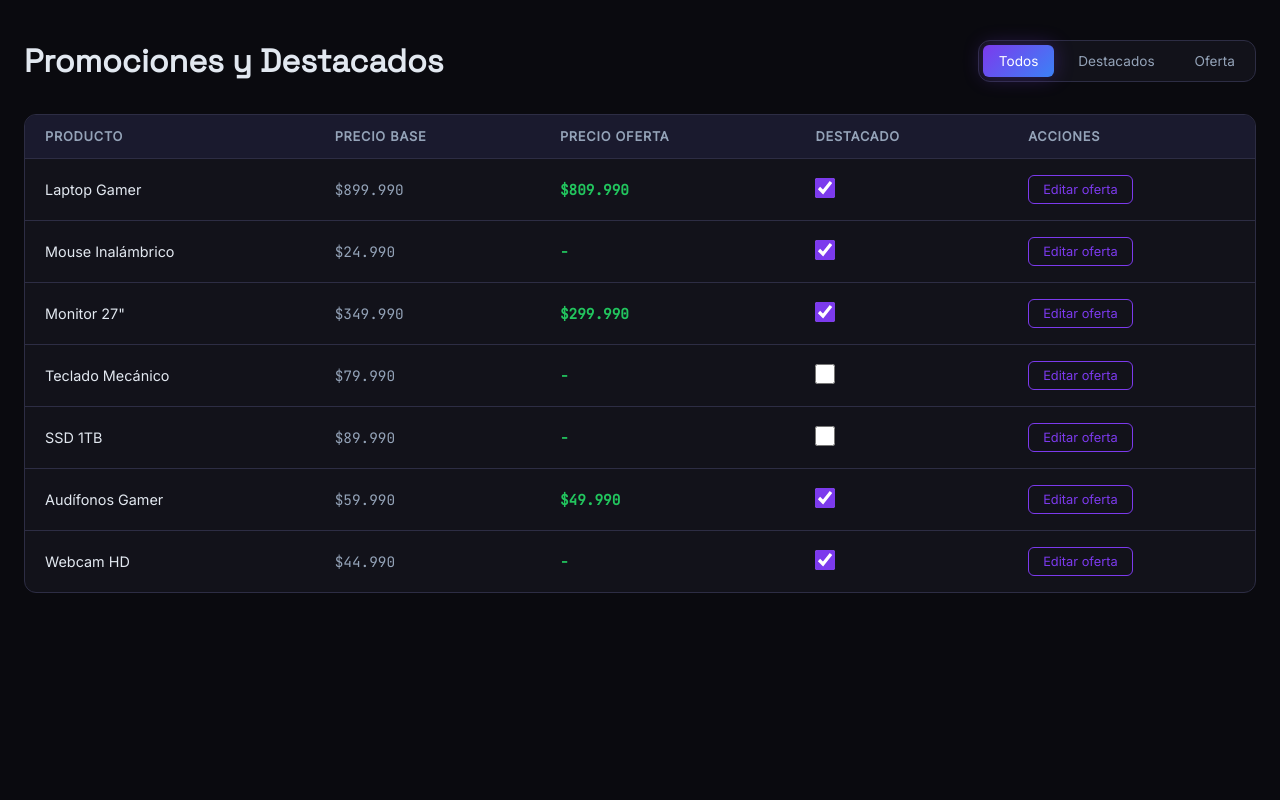
HU-ADMIN-06 · Gestionar Promociones y Productos Destacados › CA4: filtro destacados muestra solo productos destacados
Click the button with test id "filtro-destacados" at (1116, 61), box [1062,45,1171,77]
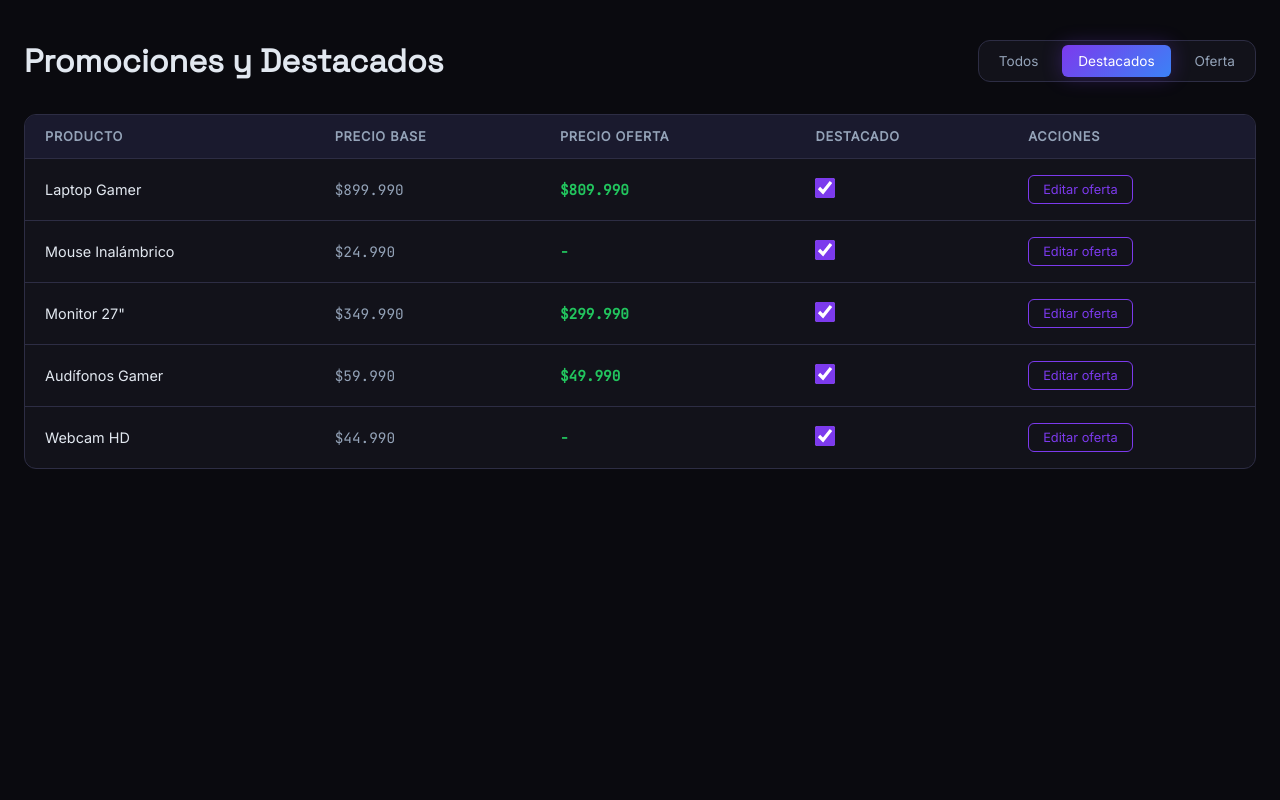
Expected: the number of rows with test id "promocion-fila" is 5, [25,158,1255,220]; [25,220,1255,282]; [25,282,1255,344]; [25,344,1255,406]; [25,406,1255,468]
